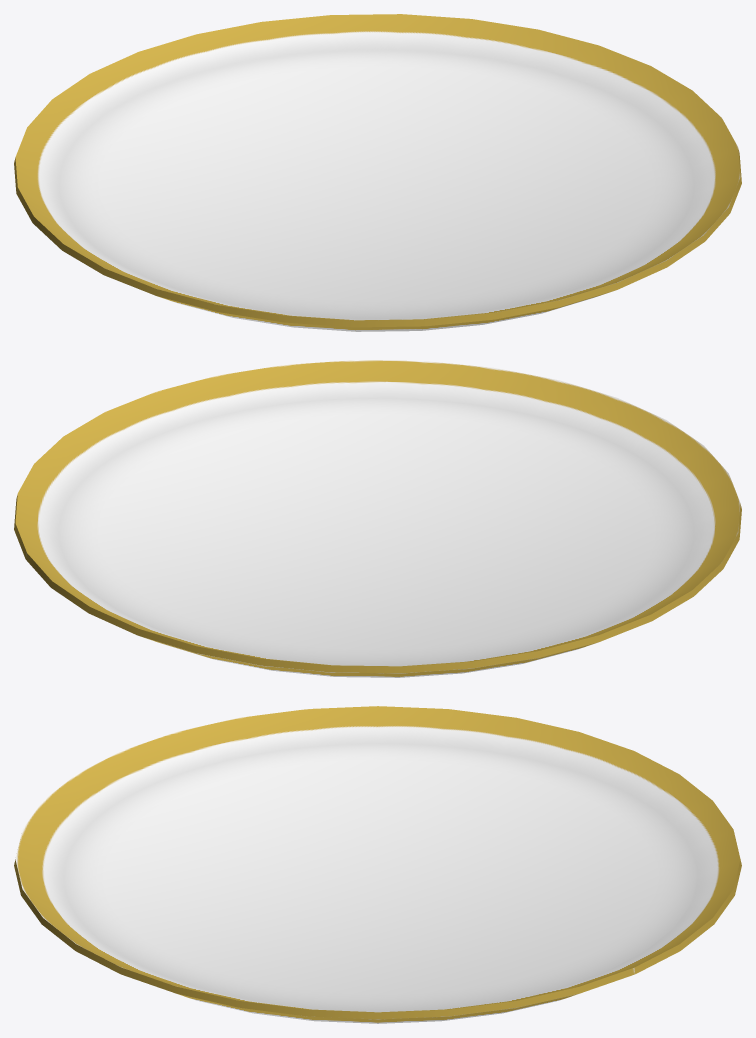
File: Tabak.fbx
The picture shows the model from 3 angles, top to bottom: view 1: azimuth 30°, elevation 25°; view 2: azimuth 150°, elevation 25°; view 3: azimuth 270°, elevation 25°; orthographic projection.
Visible parts, largest first — view 1: Circle; view 2: Circle; view 3: Circle.
Boxes of the visible parts, x1,y1,x2,y2 form: Circle: (14, 14, 741, 331); Circle: (14, 360, 741, 677); Circle: (14, 706, 741, 1023).
Size of the model in its own units: 223 by 8.92 by 223.
1 material, 1 textured.
